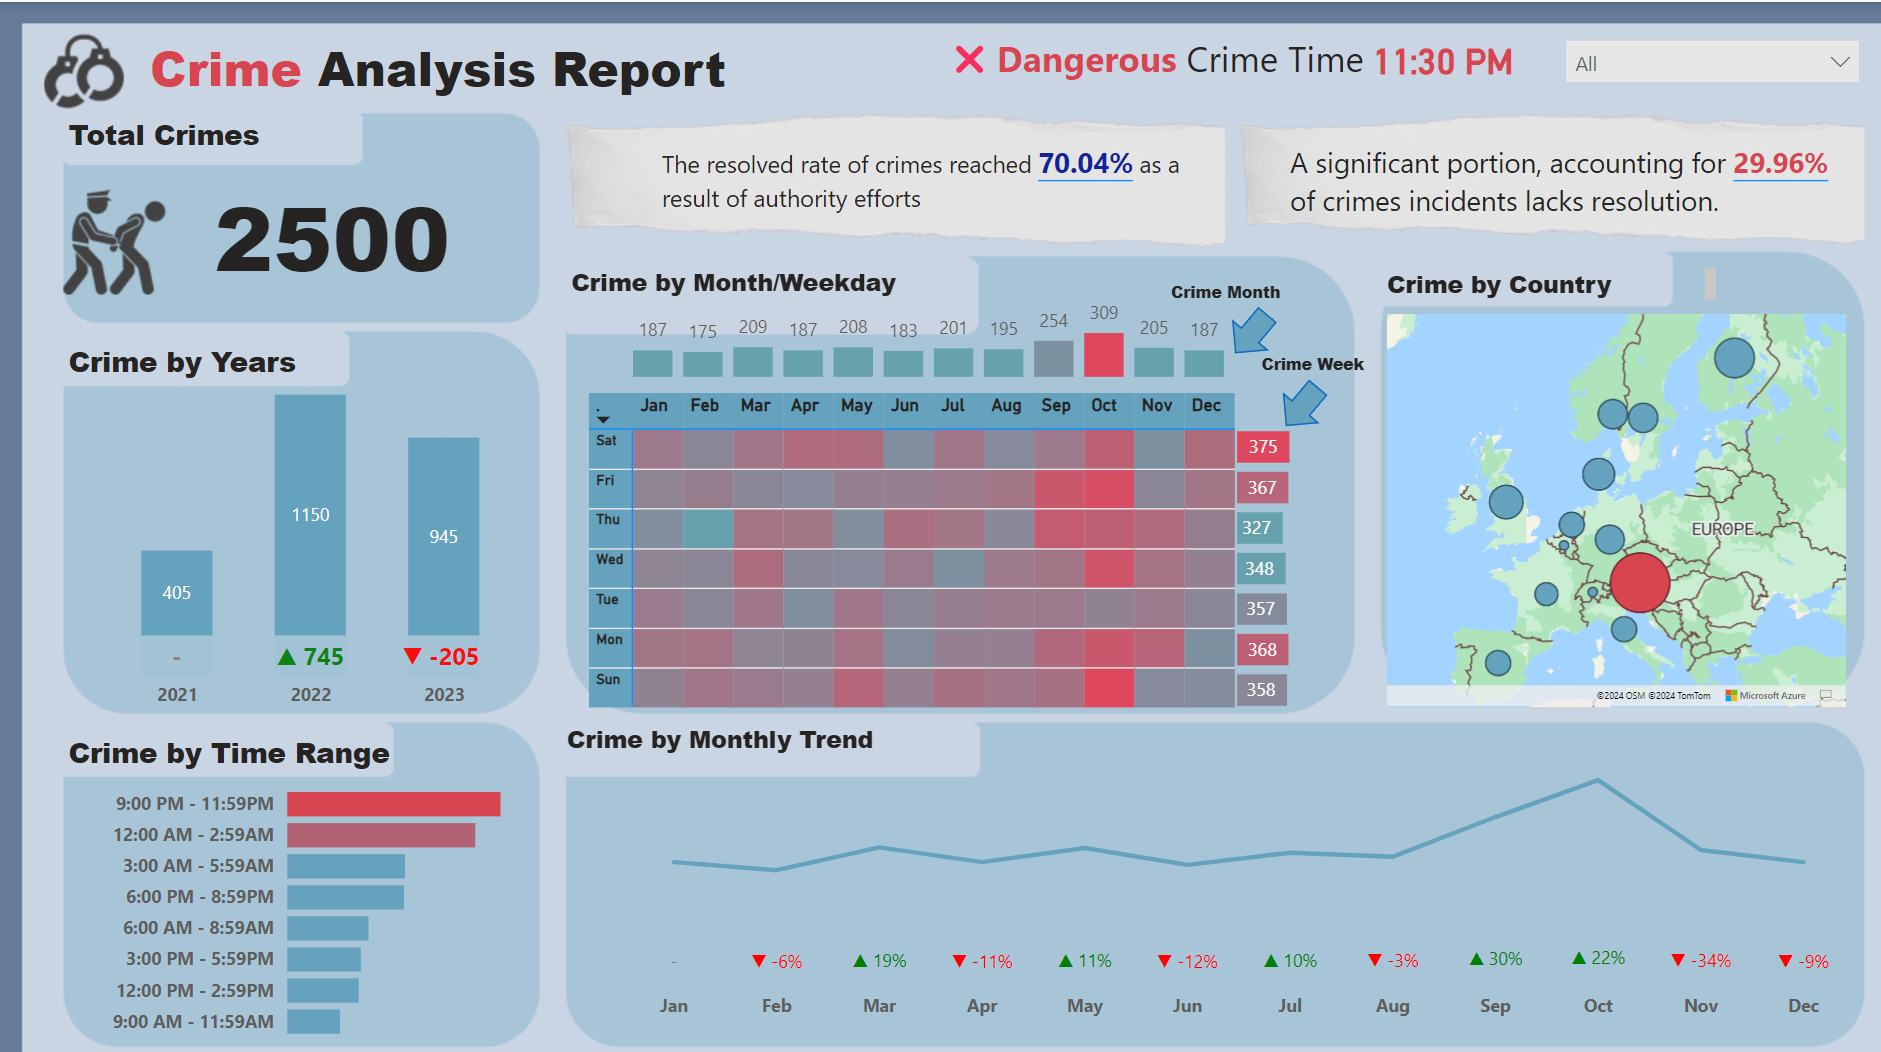

The page's visual inventory and layout, read from the dashboard file:
{"tool":"powerbi","page":{"name":"Report","canvas":[1280,720],"ordinal":0},"visuals":[{"type":"columnChart","fields":{"Category":["DateTable.Year"],"Y":["Calculations.Blank Measure (year)","Calculations.Total Crimes"]},"box":[94.2,245.3,239.3,243.8],"z":0},{"type":"lineChart","fields":{"Category":["DateTable.Month"],"Y":["Calculations.Blank Measure (Month)","Calculations.Total Crimes"]},"box":[427.6,495,831.9,204.7],"z":1000},{"type":"clusteredBarChart","fields":{"Category":["Crime Data.Time Group"],"Y":["Calculations.Total Crimes"]},"box":[74,514.1,278.8,199.2],"z":2000},{"type":"pivotTable","fields":{"Rows":["DateTable.Weekday"],"Columns":["DateTable.Month"],"Values":["Calculations.Total Crimes"]},"box":[398.3,259.9,449.6,223.8],"z":3000},{"type":"clusteredColumnChart","fields":{"Y":["Calculations.Total Crimes"],"Category":["DateTable.Month"]},"box":[427.8,191.5,411.4,68.8],"z":4000},{"type":"clusteredBarChart","fields":{"Y":["Calculations.Total Crimes"],"Category":["DateTable.Weekday"]},"box":[838.4,278.8,64.5,204.9],"z":5000},{"type":"textbox","box":[447.3,91.2,368,59.8],"z":6000},{"type":"textbox","box":[873.6,91.2,387.4,83.8],"z":7000},{"type":"azureMap","fields":{"Category":["Crime Data.Country"],"Size":["Calculations.Total Crimes"]},"box":[962.7,207.4,296.8,258.7],"z":8000},{"type":"card","fields":{"Values":["Calculations.Total Crimes"]},"box":[104.3,91,248.5,130.9],"z":9000},{"type":"textbox","box":[675.3,17.1,299.7,55],"z":10000},{"type":"card","fields":{"Values":["Calculations.Cross"]},"box":[614.6,9.5,92.9,62.6],"z":11000},{"type":"card","fields":{"Values":["Min(Crime Data.Crime Time)"]},"box":[907.5,11.4,148.4,55.2],"z":12000},{"type":"textbox","box":[44.9,71.8,204.9,44.9],"z":13000},{"type":"textbox","box":[45.5,225.7,204.9,53.1],"z":14000},{"type":"textbox","box":[45.5,491.3,288.3,47.4],"z":15000},{"type":"textbox","box":[386.2,173.6,277.3,49.2],"z":16000},{"type":"textbox","box":[383.2,483.7,278.8,36],"z":17000},{"type":"textbox","box":[938.9,174.5,233.3,32.2],"z":18000},{"type":"textbox","box":[100.8,17.1,523.2,55.2],"z":19000},{"type":"slicer","title":"Crime Type","fields":{"Values":["Crime Types.Crime"]},"box":[1056.6,17.1,218.1,55],"z":20000},{"type":"shape","box":[873.3,245.4,30.4,53.3],"z":21000},{"type":"shape","box":[839,196,30.4,53.3],"z":22000},{"type":"textbox","box":[793.3,180.7,91.3,45.7],"z":23000},{"type":"textbox","box":[854.2,230.2,137,30.4],"z":23001}]}

Visuals, with their boxes in screenshot pixels (x1, y1, x2, y2), scaled from the page's 1280x720 canvas onto the 1881x1052 screenshot:
columnChart - DateTable.Year x Calculations.Blank Measure (year): 138/358/490/715
lineChart - DateTable.Month x Calculations.Blank Measure (Month): 628/723/1851/1022
clusteredBarChart - Crime Data.Time Group x Calculations.Total Crimes: 109/751/518/1042
pivotTable - DateTable.Weekday x DateTable.Month: 585/380/1246/707
clusteredColumnChart - Calculations.Total Crimes x DateTable.Month: 629/280/1233/380
clusteredBarChart - Calculations.Total Crimes x DateTable.Weekday: 1232/407/1327/707
textbox: 657/133/1198/221
textbox: 1284/133/1853/256
azureMap - Crime Data.Country x Calculations.Total Crimes: 1415/303/1851/681
card - Calculations.Total Crimes: 153/133/518/324
textbox: 992/25/1433/105
card - Calculations.Cross: 903/14/1040/105
card - Min(Crime Data.Crime Time): 1334/17/1552/97
textbox: 66/105/367/171
textbox: 67/330/368/407
textbox: 67/718/491/787
textbox: 568/254/975/326
textbox: 563/707/973/759
textbox: 1380/255/1723/302
textbox: 148/25/917/106
"Crime Type" slicer: 1553/25/1873/105
shape: 1283/359/1328/436
shape: 1233/286/1278/364
textbox: 1166/264/1300/331
textbox: 1255/336/1457/381
